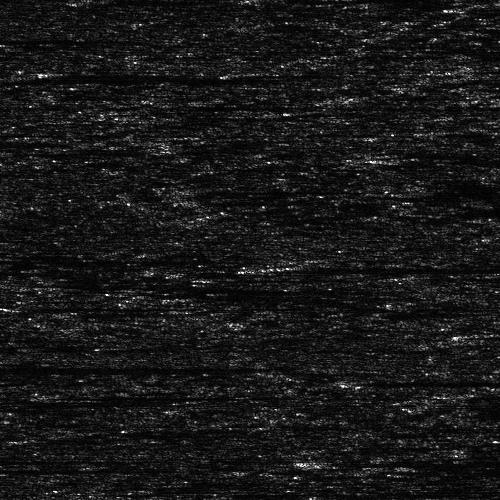object: (197, 260, 374, 273), (0, 277, 93, 290), (254, 457, 359, 468), (406, 0, 500, 11), (0, 67, 71, 80), (465, 322, 500, 341), (346, 375, 409, 384), (26, 392, 99, 399), (470, 385, 500, 402), (456, 216, 500, 227), (10, 434, 51, 441), (0, 304, 41, 309), (0, 341, 18, 350), (183, 197, 214, 202), (183, 187, 214, 192), (156, 297, 197, 300), (188, 277, 219, 280), (388, 156, 409, 159)
shadow: (24, 67, 321, 80), (31, 277, 311, 290), (286, 260, 500, 273), (0, 363, 247, 372), (307, 457, 500, 468), (0, 396, 212, 403), (0, 34, 145, 43), (0, 456, 140, 465), (378, 375, 500, 384), (0, 361, 138, 368), (63, 392, 201, 399), (0, 256, 161, 261), (199, 197, 347, 202), (199, 187, 347, 192), (15, 304, 153, 309), (0, 467, 198, 470), (30, 434, 99, 441), (0, 341, 50, 350), (463, 0, 500, 11), (0, 135, 35, 146), (399, 156, 500, 159), (416, 273, 500, 276), (204, 277, 277, 280), (177, 297, 249, 300)
